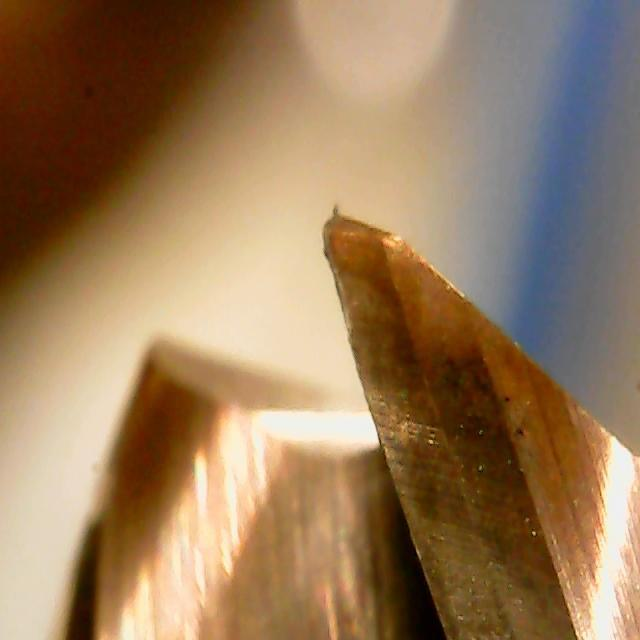Tool-wear-class-0: (314, 202, 445, 421)
